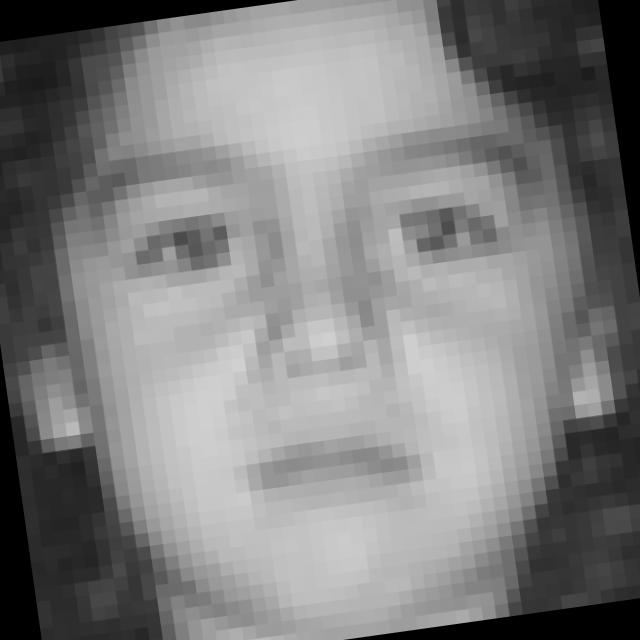neutral: (73, 90, 588, 552)
